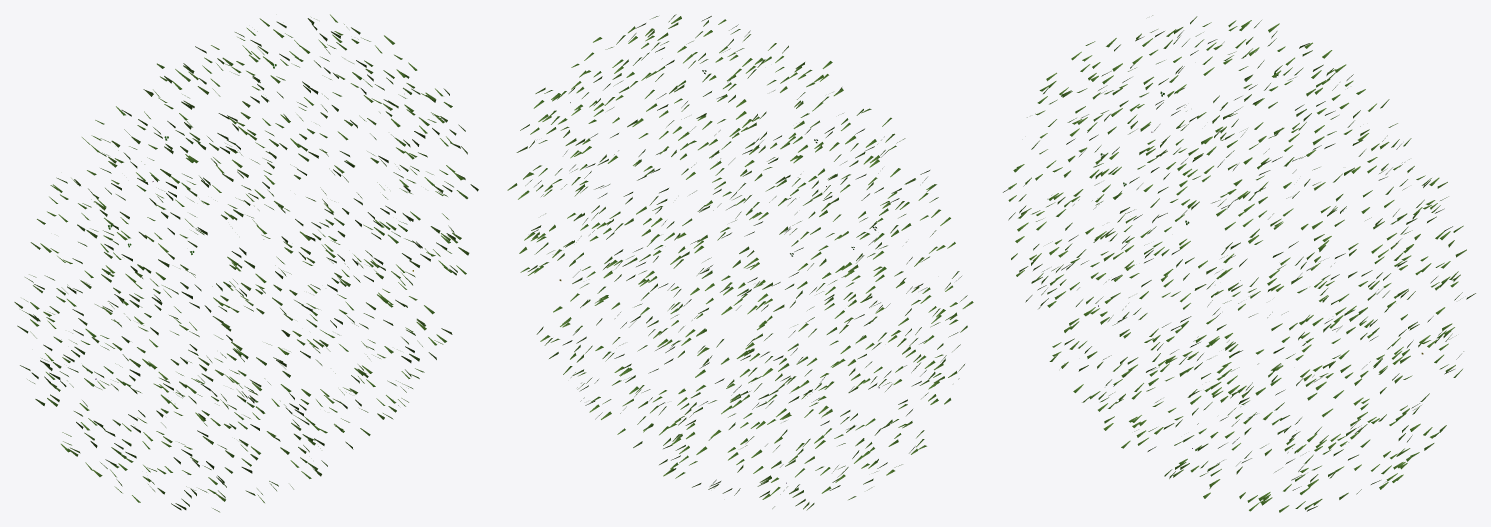
Rendered from Grass_Tile_FormalGarden.glb.
3 renders of one model, left to right at view 1: azimuth 30°, elevation 25°; view 2: azimuth 150°, elevation 25°; view 3: azimuth 330°, elevation 25°, orthographic.
Visible parts, largest first — view 1: Grass_Tile_FormalGarden; view 2: Grass_Tile_FormalGarden; view 3: Grass_Tile_FormalGarden.
Boxes of the visible parts, x1,y1,x2,y2 form: Grass_Tile_FormalGarden: (14,14,478,512); Grass_Tile_FormalGarden: (507,14,973,510); Grass_Tile_FormalGarden: (1003,15,1475,512).
Size of the model in its own units: 1.89 by 1.89 by 0.0777.
